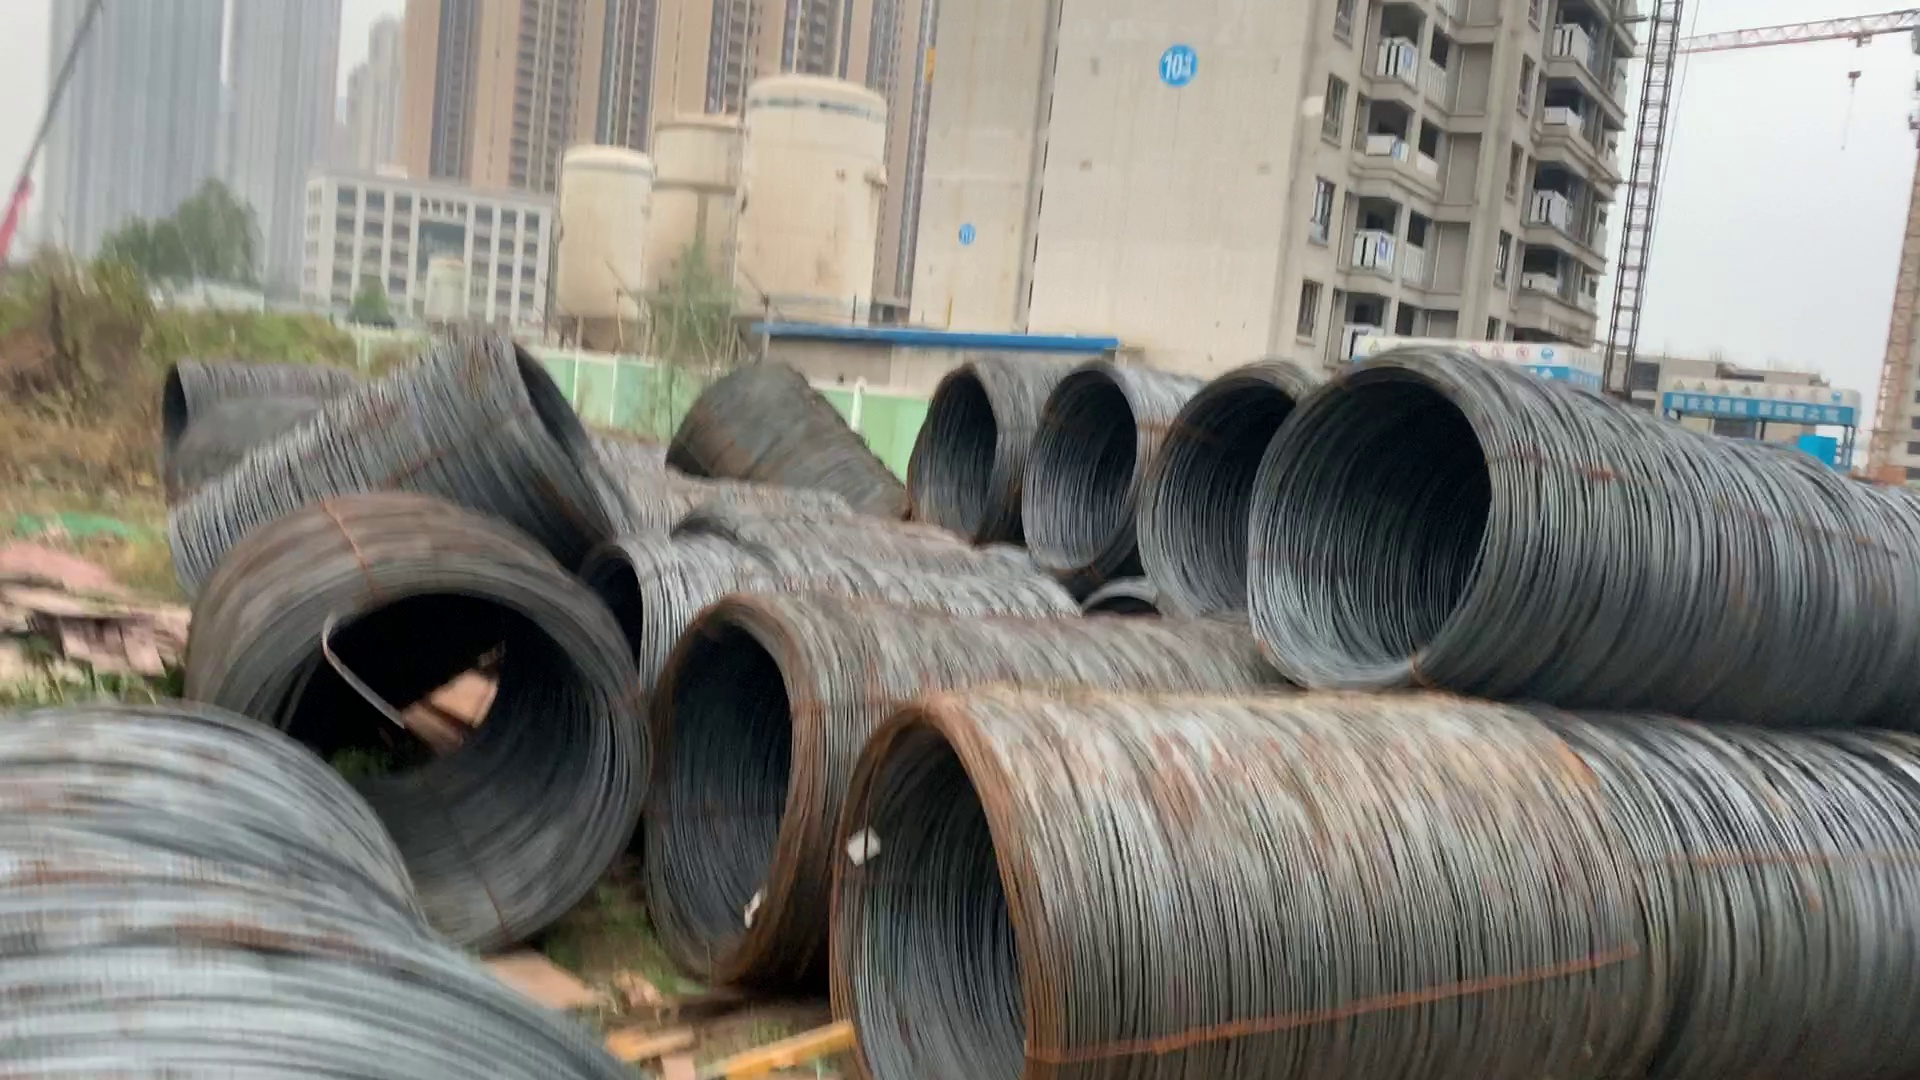coil: (224, 563, 629, 967), (1246, 368, 1499, 688), (832, 702, 1042, 1080), (646, 603, 829, 1004), (483, 320, 644, 578), (1143, 375, 1290, 624), (1038, 371, 1138, 574), (907, 363, 1018, 543), (149, 371, 204, 496)
